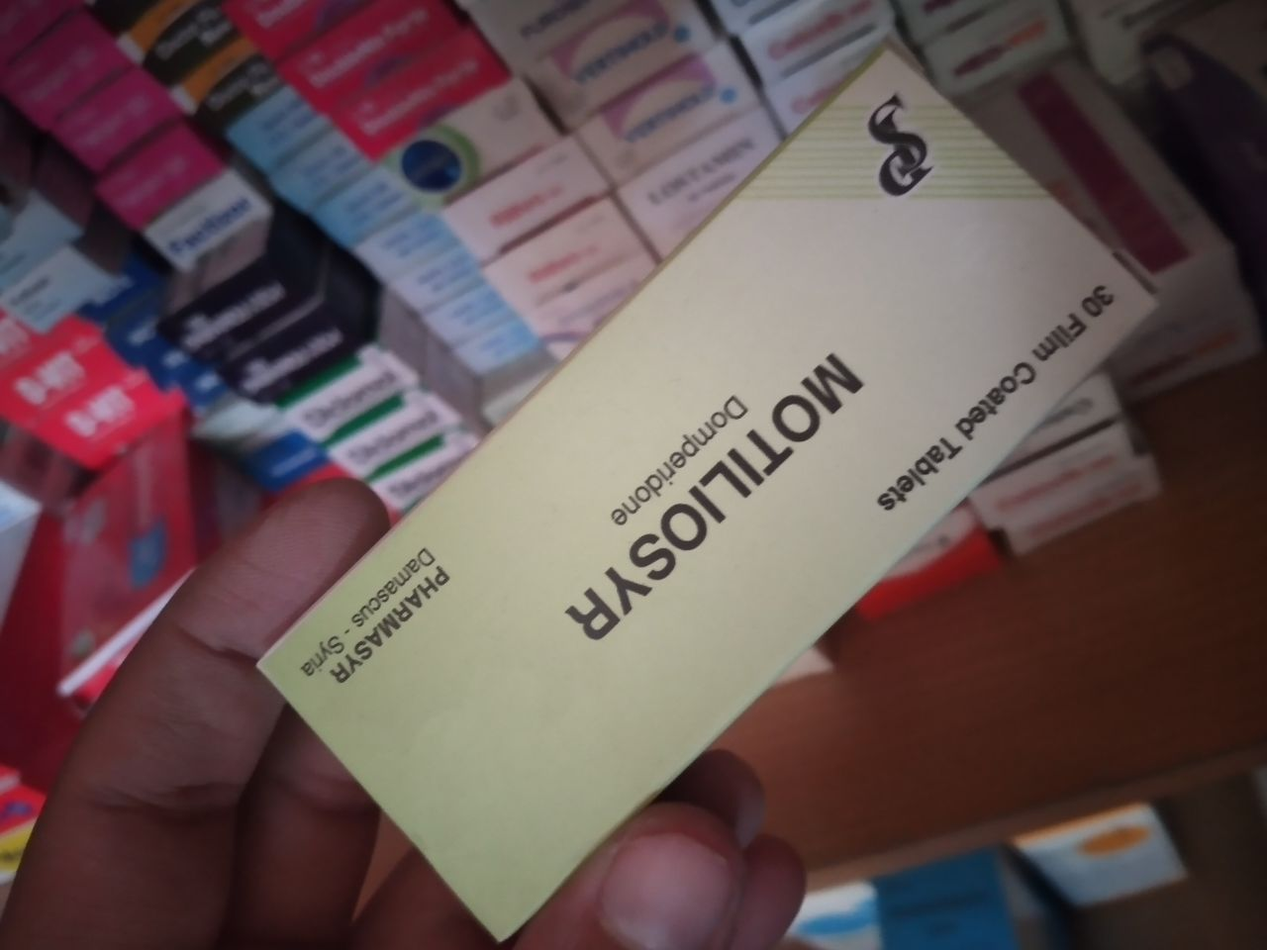Medicine: (270, 54, 1163, 950)
